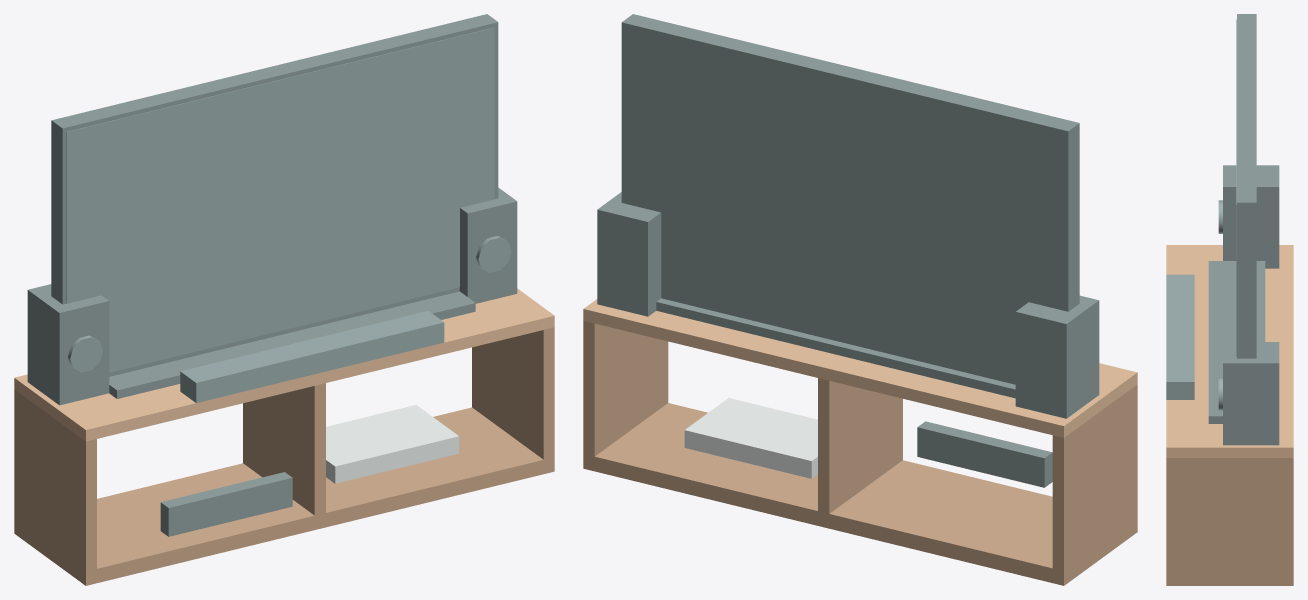
File: homeCinema.glb
3 views of the same model, side by side, from view 1: azimuth 30°, elevation 25°; view 2: azimuth 150°, elevation 25°; view 3: azimuth 270°, elevation 25° (orthographic). The views are drawn at different scales.
Parts seen in each view (by area): view 1: homeCinema, anim:screen; view 2: homeCinema; view 3: homeCinema, anim:screen.
Boxes of the visible parts, left/top/right/bottom form: homeCinema: left=14, top=14, right=554, bottom=585; anim:screen: left=66, top=27, right=494, bottom=372; homeCinema: left=583, top=14, right=1137, bottom=585; homeCinema: left=1166, top=14, right=1293, bottom=585; anim:screen: left=1236, top=19, right=1236, bottom=356.
Size of the model in its own units: 0.85 by 0.735 by 0.225.
